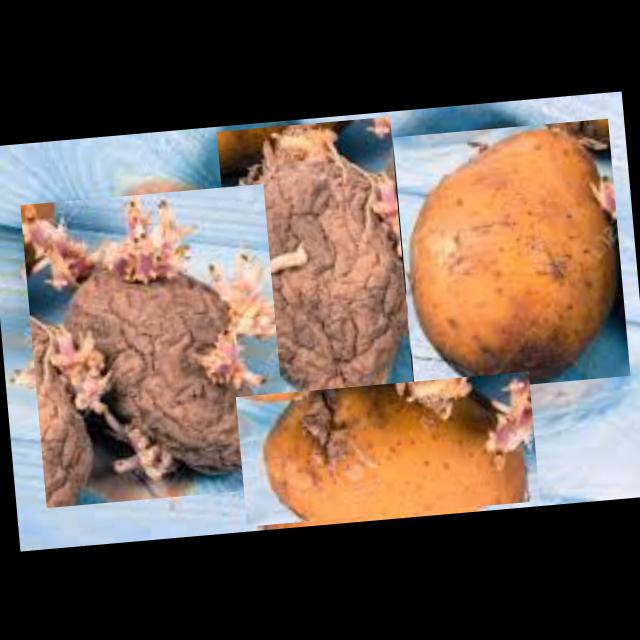Damaged potato: (234, 370, 538, 525)
Potato: (391, 117, 629, 393)
Sprouted potato: (18, 183, 288, 507), (215, 116, 414, 422)
